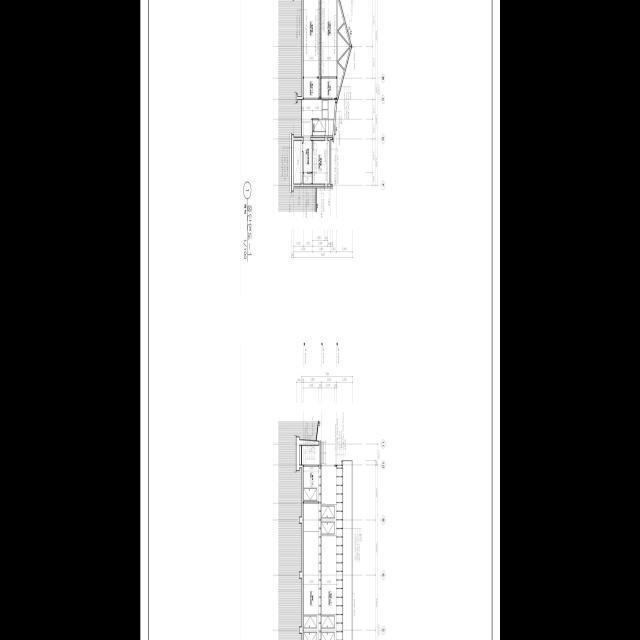background: (140, 0, 500, 640)
space_other: (321, 466, 336, 640), (303, 503, 319, 640), (337, 0, 350, 96), (303, 0, 319, 77), (302, 100, 335, 137), (321, 0, 336, 77), (303, 467, 319, 502), (293, 141, 302, 184), (303, 78, 319, 98), (321, 78, 336, 98), (303, 140, 312, 172), (303, 173, 312, 184)
space_toilet: (312, 141, 329, 184)
